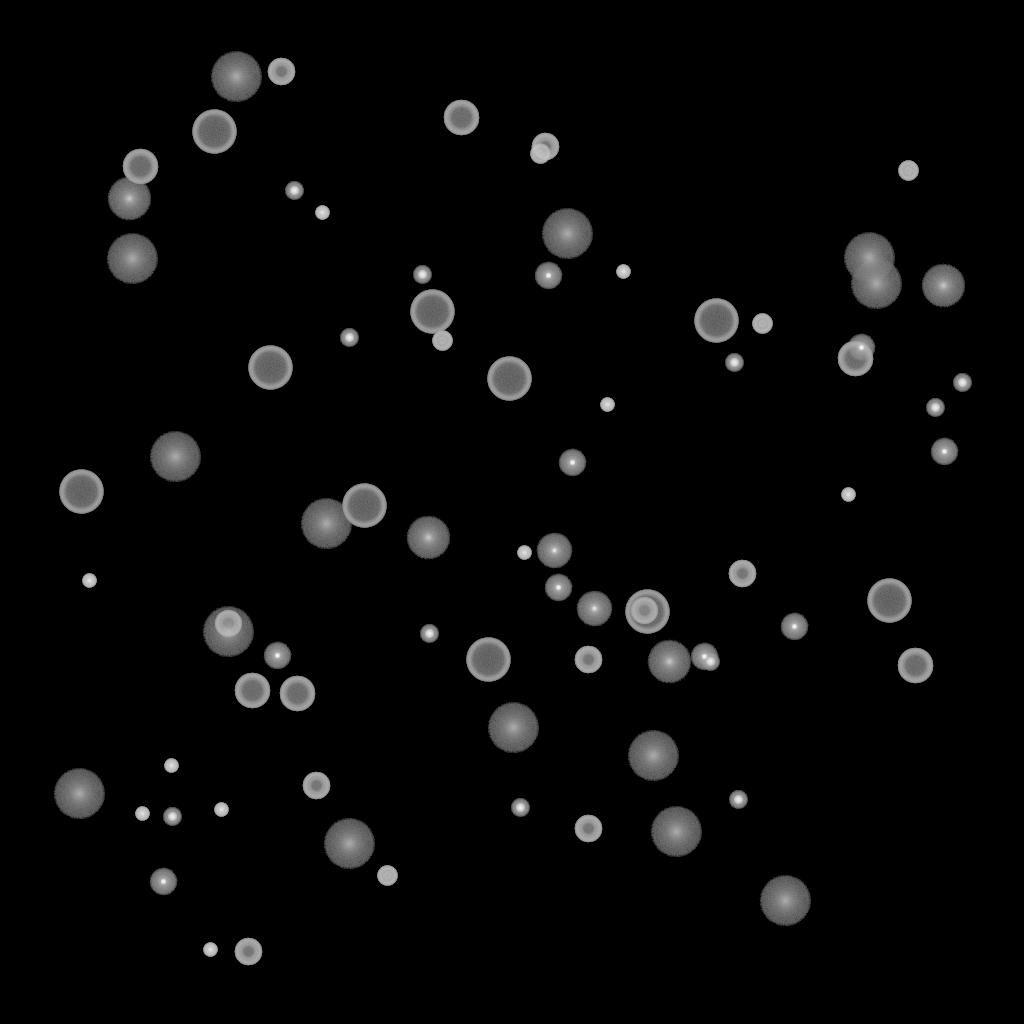depth:-10: (558, 449, 586, 477), (847, 334, 875, 362), (930, 438, 958, 466), (534, 262, 562, 290), (544, 574, 572, 602), (149, 868, 177, 896), (263, 642, 291, 670), (780, 613, 808, 641), (690, 643, 718, 671)
depth:-20: (701, 653, 719, 671), (926, 399, 944, 417), (511, 799, 529, 817), (163, 808, 181, 826), (420, 625, 438, 643), (285, 182, 303, 200), (729, 791, 747, 809), (413, 266, 431, 284), (953, 374, 971, 392), (725, 354, 743, 372), (340, 329, 358, 347)
depth:-30: (315, 206, 329, 220), (82, 574, 96, 588), (517, 546, 531, 560), (164, 759, 178, 773), (214, 803, 228, 817), (600, 398, 614, 412), (203, 943, 217, 957), (135, 807, 149, 821), (841, 488, 855, 502), (616, 265, 630, 279)
depth:-40: (898, 161, 918, 181), (530, 144, 550, 164), (432, 331, 452, 351), (377, 866, 397, 886), (752, 314, 772, 334)
depth:-50: (214, 610, 242, 638), (574, 646, 602, 674), (234, 938, 262, 966), (267, 58, 295, 86), (574, 815, 602, 843), (728, 560, 756, 588), (630, 597, 658, 625), (531, 133, 559, 161), (302, 772, 330, 800)
depth:-60: (234, 673, 270, 709), (122, 149, 158, 185), (897, 648, 933, 684), (443, 100, 479, 136), (837, 341, 873, 377), (279, 676, 315, 712)
depth:-70: (625, 590, 669, 634), (248, 346, 292, 390), (466, 638, 510, 682), (59, 470, 103, 514), (867, 579, 911, 623), (694, 299, 738, 343), (410, 290, 454, 334), (192, 110, 236, 154), (342, 484, 386, 528), (487, 357, 531, 401)
depth:0: (536, 533, 572, 569), (576, 591, 612, 627)
depth:10: (107, 177, 151, 221), (647, 640, 691, 684), (406, 516, 450, 560), (921, 264, 965, 308)
depth:20: (650, 807, 702, 857), (843, 233, 895, 283), (627, 731, 679, 781), (850, 259, 902, 309), (149, 432, 201, 482), (541, 209, 593, 259), (487, 703, 539, 753), (106, 234, 158, 284), (759, 876, 811, 926), (53, 769, 105, 819), (300, 499, 352, 549), (323, 819, 375, 869), (202, 607, 254, 657), (210, 52, 262, 102)
